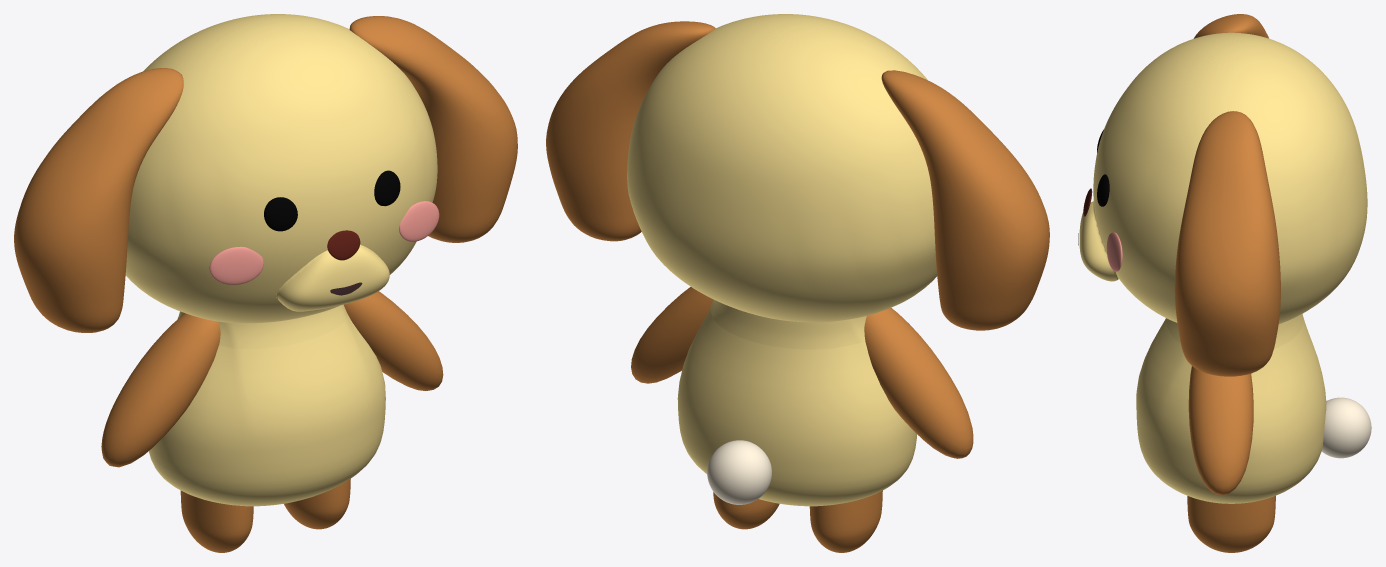
The model's file is mungmung2.glb.
3 renders of one model, left to right at view 1: azimuth 30°, elevation 25°; view 2: azimuth 150°, elevation 25°; view 3: azimuth 270°, elevation 25°, orthographic. The views are drawn at different scales.
Visible parts, largest first — view 1: ras, 귀.001, bdan, Cube, Cube.002, sa9in, 입.003, 5doud.001, 3enin, 5cham; view 2: ras, 귀.001, bdan, Cube, sa9in, Cube.002, ba3bous; view 3: ras, 귀.001, bdan, Cube.002, sa9in, ba3bous, 입.003, 5doud.001, 3enin.
Boxes of the visible parts, bbox=[...] form: ras: bbox=[125, 14, 437, 323]; 귀.001: bbox=[14, 16, 517, 332]; bdan: bbox=[149, 304, 385, 506]; Cube: bbox=[101, 313, 220, 467]; Cube.002: bbox=[344, 291, 443, 390]; sa9in: bbox=[180, 478, 350, 552]; 입.003: bbox=[276, 245, 389, 311]; 5doud.001: bbox=[209, 201, 439, 284]; 3enin: bbox=[264, 170, 400, 231]; 5cham: bbox=[327, 230, 360, 260]; ras: bbox=[627, 14, 937, 322]; 귀.001: bbox=[546, 21, 1049, 330]; bdan: bbox=[677, 299, 916, 506]; Cube: bbox=[864, 308, 973, 458]; sa9in: bbox=[713, 490, 882, 552]; Cube.002: bbox=[631, 287, 713, 383]; ba3bous: bbox=[707, 440, 771, 504]; ras: bbox=[1093, 32, 1367, 324]; 귀.001: bbox=[1174, 14, 1280, 376]; bdan: bbox=[1136, 314, 1326, 503]; Cube.002: bbox=[1188, 366, 1253, 495]; sa9in: bbox=[1187, 495, 1275, 552]; ba3bous: bbox=[1321, 397, 1371, 458]; 입.003: bbox=[1079, 201, 1118, 281]; 5doud.001: bbox=[1106, 232, 1122, 271]; 3enin: bbox=[1097, 129, 1109, 206].
Bounding box in the file's own units: 5.51 × 5.5 × 3.05.
